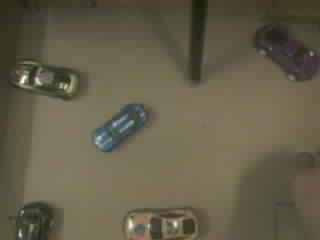Car: (255, 24, 318, 79), (10, 60, 78, 98), (94, 105, 146, 151), (125, 208, 198, 239), (16, 202, 52, 239)
